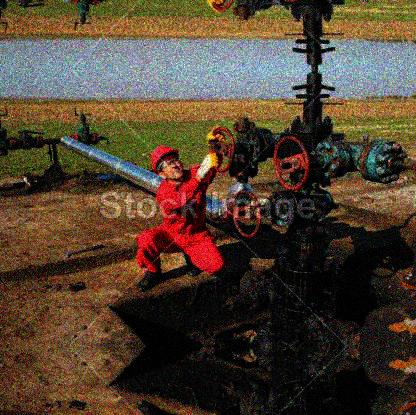helmet: (150, 143, 186, 180)
